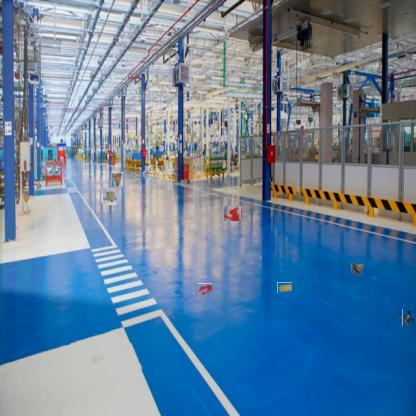dirty: (102, 188, 118, 204), (400, 311, 414, 324), (111, 172, 123, 187), (277, 282, 292, 293), (351, 264, 363, 276)
liquid: (223, 206, 242, 222), (196, 283, 212, 298)
